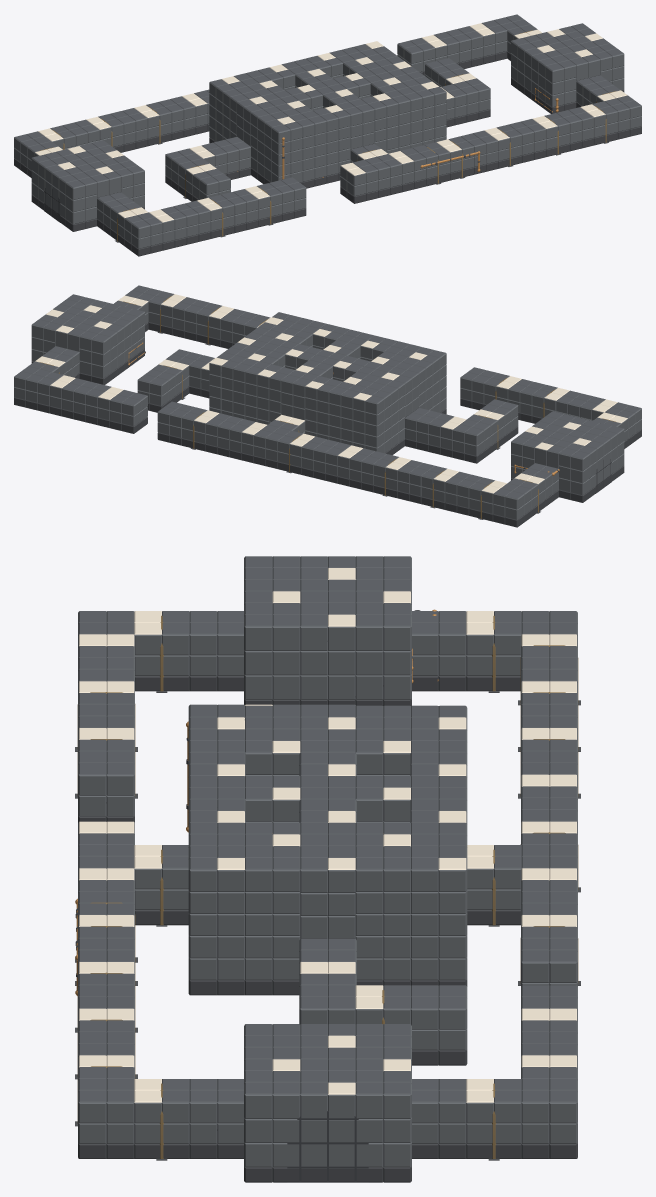
File: alienship_clean (1).fbx
3 renders of one model, top to bottom at view 1: azimuth 30°, elevation 25°; view 2: azimuth 150°, elevation 25°; view 3: azimuth 270°, elevation 25°, orthographic. The views are drawn at different scales.
Parts seen in each view (by area): view 1: Hull_Walls, Hull_Ceiling, Ribs, Pipes; view 2: Hull_Walls, Hull_Ceiling, Ribs; view 3: Hull_Ceiling, Hull_Walls, Ribs, Door_End.
Boxes of the visible parts, <box> form: Hull_Walls: <box>14,30,641,256</box>; Hull_Ceiling: <box>14,14,641,228</box>; Ribs: <box>40,30,615,242</box>; Pipes: <box>236,88,558,179</box>; Hull_Walls: <box>14,301,641,527</box>; Hull_Ceiling: <box>14,285,641,499</box>; Ribs: <box>40,296,615,519</box>; Hull_Ceiling: <box>79,556,576,1102</box>; Hull_Walls: <box>78,557,577,1182</box>; Ribs: <box>75,615,580,1160</box>; Door_End: <box>287,1111,368,1182</box>.
Bounding box in the file's own units: 9212 × 1009 × 3656.
